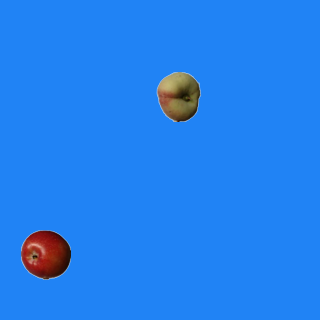Apple Braeburn: (20, 229, 70, 279)
Peach Flat: (153, 71, 203, 121)
